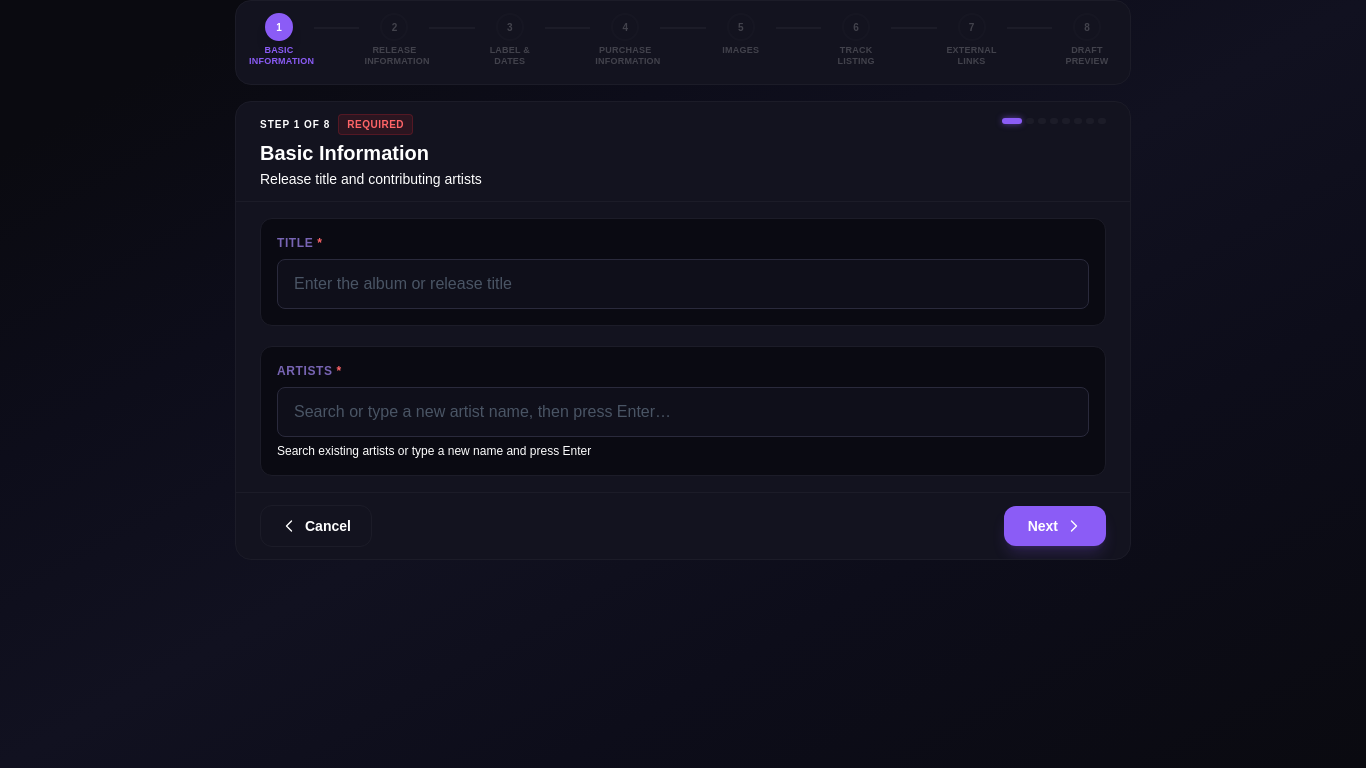
Scenario: AddReleaseWizard – step 0 validation › shows the validation summary banner when there are errors
Click the button "Next" at point(1055, 526), box top-left (1004, 506), bottom-right (1106, 546)
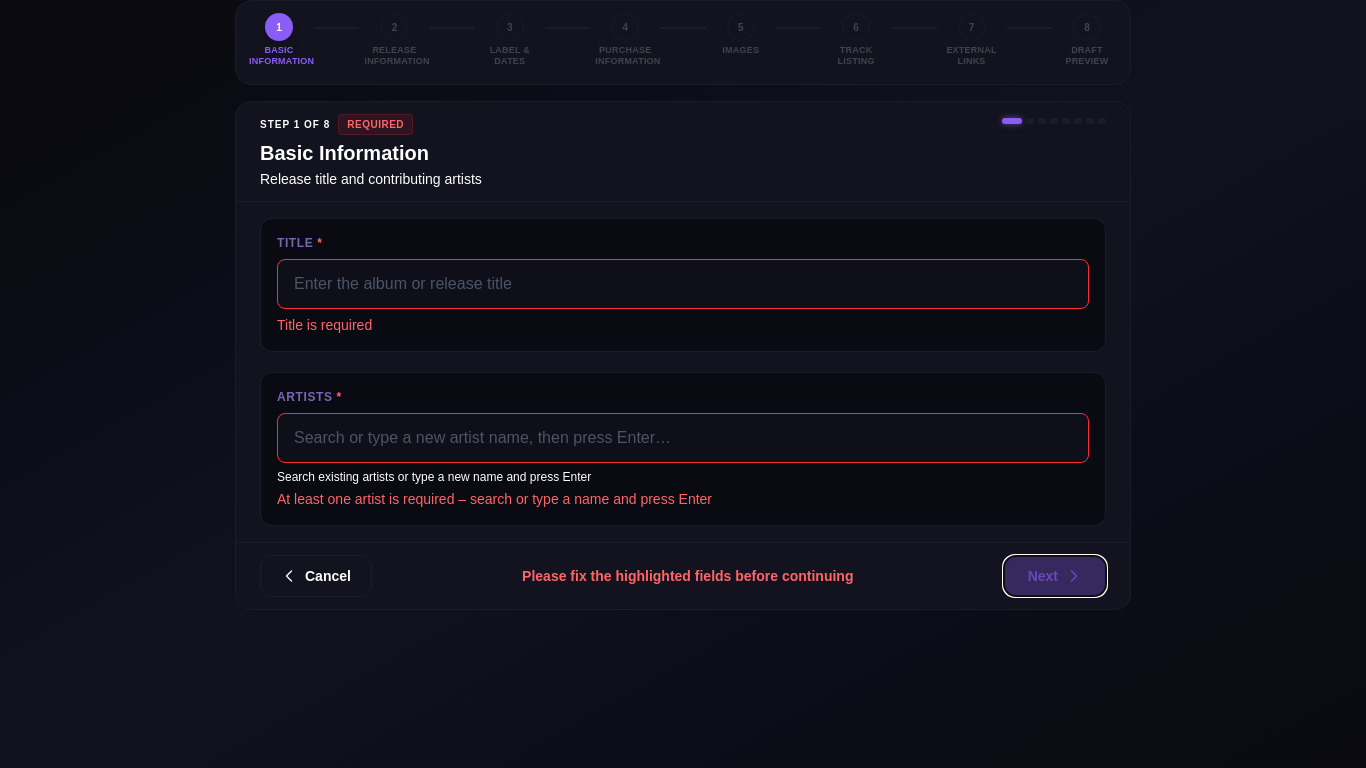
expect the text "Please fix the highlighted fields before continuing" is shown: met, box top-left (522, 568), bottom-right (854, 584)
